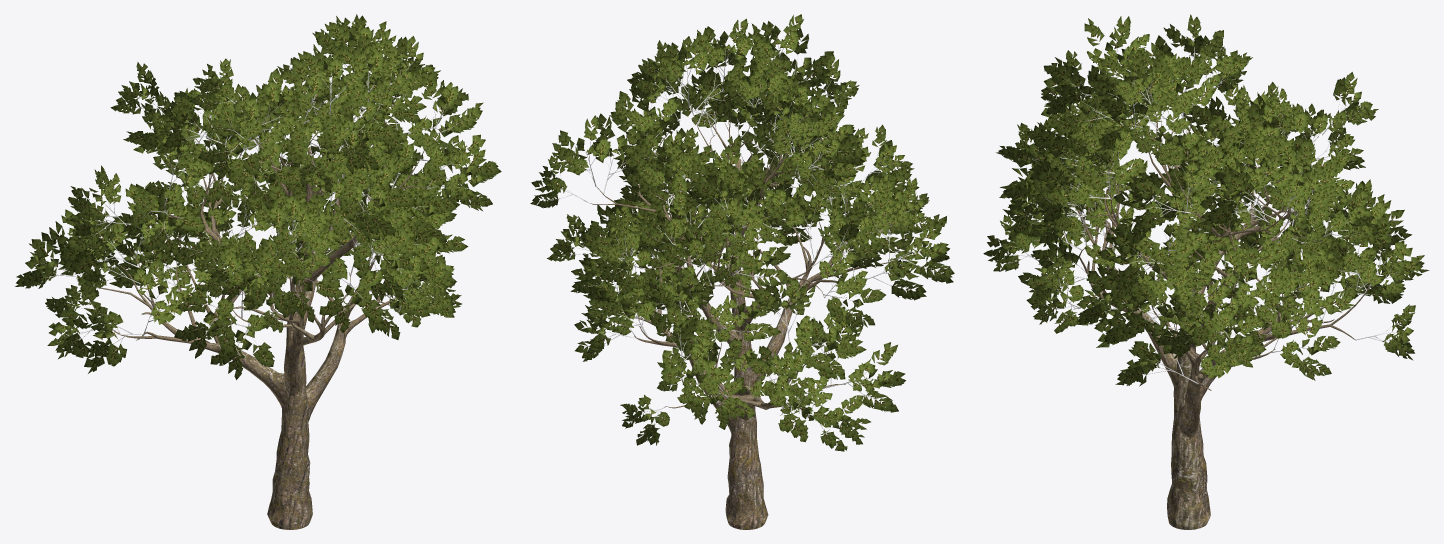
File: maple_tree.glb
3 renders of one model, left to right at view 1: azimuth 30°, elevation 25°; view 2: azimuth 150°, elevation 25°; view 3: azimuth 270°, elevation 25°, orthographic. The views are drawn at different scales.
Parts seen in each view (by area): view 1: Object_2, Object_3, Object_4; view 2: Object_2, Object_3, Object_4; view 3: Object_2, Object_3, Object_4.
Boxes of the visible parts, x1,y1,x2,y2 form: Object_2: [15, 14, 501, 379]; Object_3: [76, 108, 427, 529]; Object_4: [41, 39, 470, 365]; Object_2: [530, 14, 954, 451]; Object_3: [588, 103, 900, 529]; Object_4: [548, 38, 939, 444]; Object_2: [983, 14, 1429, 386]; Object_3: [1049, 105, 1370, 529]; Object_4: [1005, 46, 1398, 384].
Size of the model in its own units: 112 by 144 by 117.
3 materials, 2 textured.
